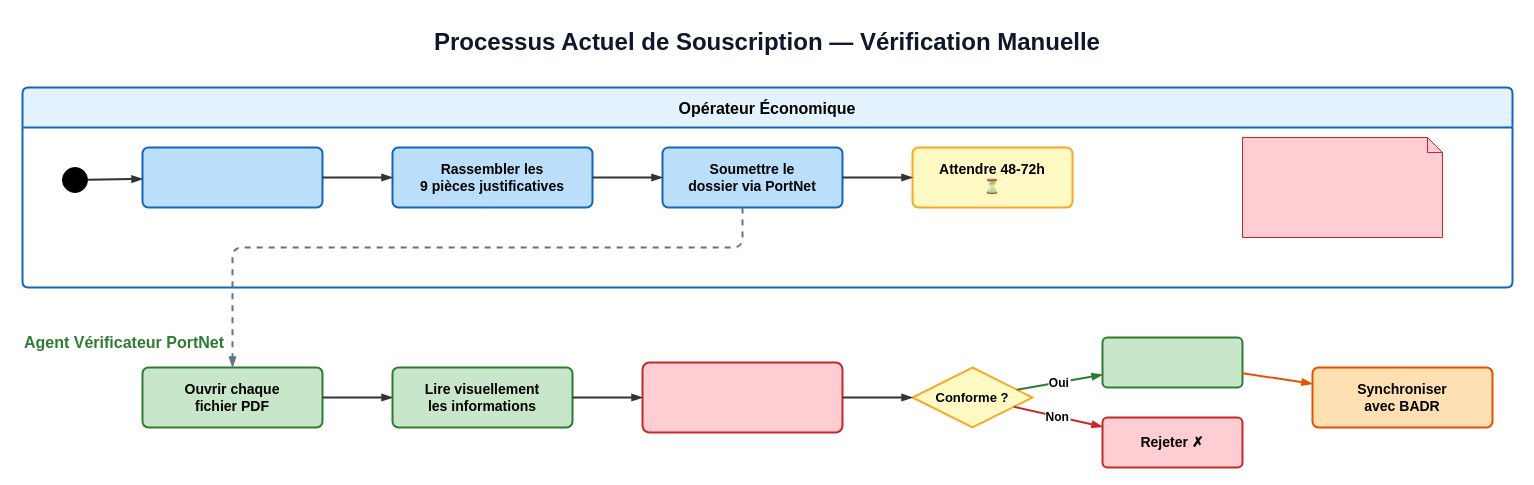
The diagram is 1534 pixels wide and 485 high, and some of its shapes have lost their labels. The centre of each missing label's shape, as x and y in pixels:
Comparer manuellement ICE/RC/IF entre docs ⚠ Erreur humaine: the point at 742,397
Remplir le formulaire papier: the point at 232,177
Valider ✓: the point at 1172,362
⚠ Délai 48-72h ouvr. ⚠ Erreurs humaines ⚠ Pas de Modulo 97 ⚠ Pas de cross-ref: the point at 1342,187
